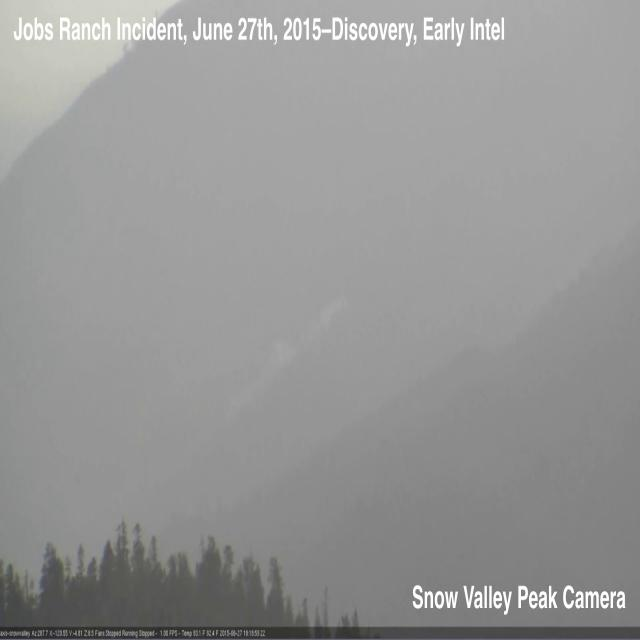smoke: (217, 288, 352, 436)
